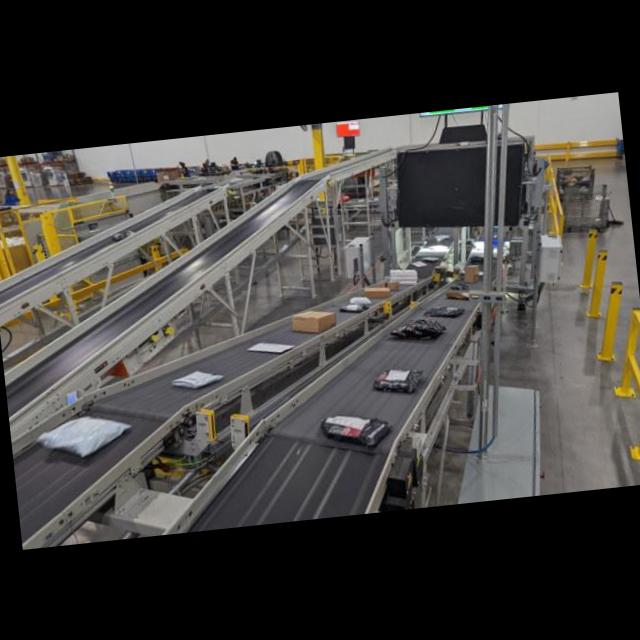box: (290, 307, 336, 334), (384, 268, 418, 286), (362, 284, 390, 298), (462, 264, 480, 282), (378, 278, 399, 291)
mailer: (37, 415, 129, 454), (321, 414, 390, 445), (392, 317, 446, 337), (374, 369, 421, 391), (171, 369, 222, 387), (248, 341, 294, 352), (425, 305, 464, 316), (446, 289, 469, 300), (340, 303, 367, 311), (350, 295, 370, 303), (450, 280, 468, 288), (434, 233, 450, 241), (422, 255, 438, 260), (412, 260, 426, 265)
